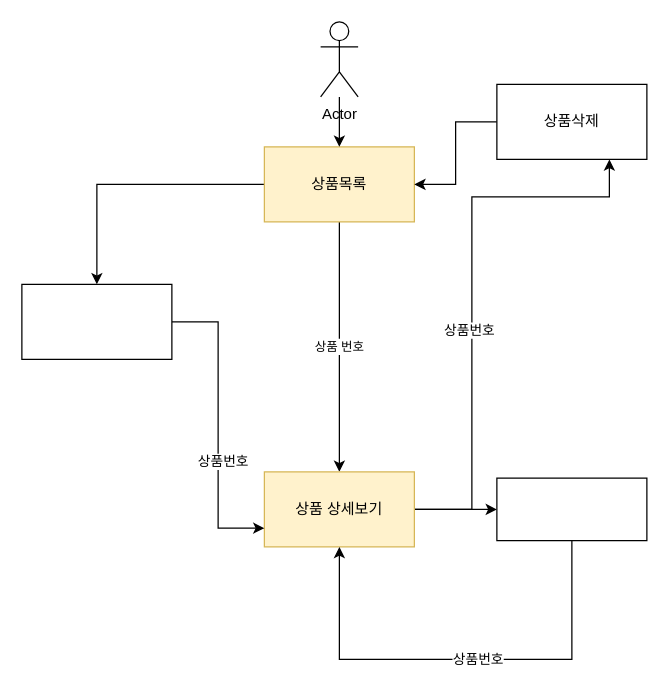
Image size: 669x691. Some labels were removed from this diagram. Here are the shapes that lost their labels. From the top down, the box of each, then its label:
(21, 283, 172, 359): 상품등록
(496, 477, 647, 541): 상품수정
